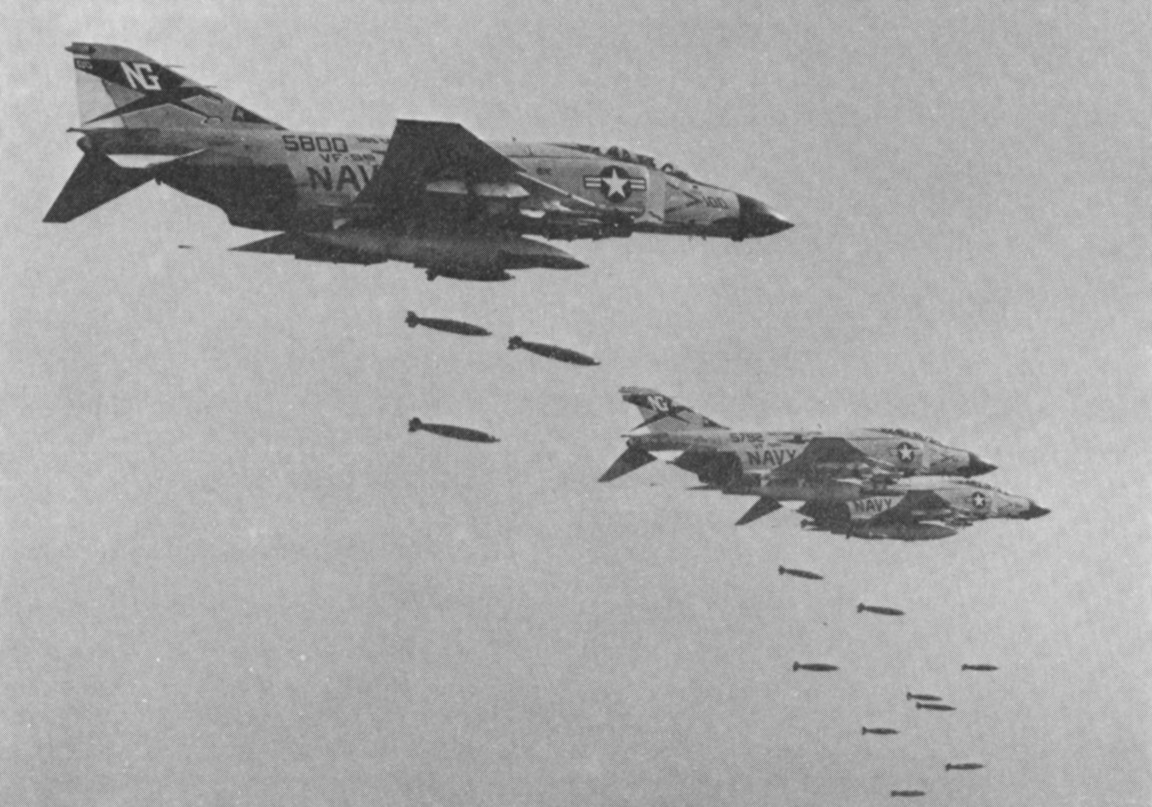F4: (41, 42, 795, 270), (596, 385, 999, 501), (732, 479, 1052, 542)
